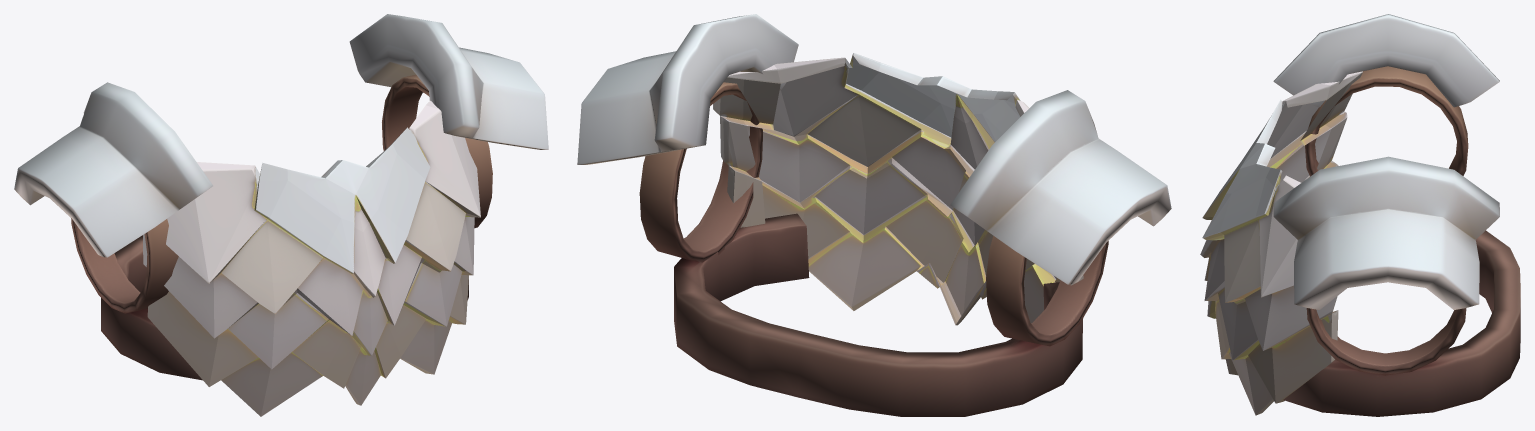
File: SK_Aiko_BreastPlate_geo.fbx
3 renders of one model, left to right at view 1: azimuth 30°, elevation 25°; view 2: azimuth 150°, elevation 25°; view 3: azimuth 270°, elevation 25°, orthographic. The views are drawn at different scales.
Visible parts, largest first — view 1: SK_Aiko_BreastPlate_geo; view 2: SK_Aiko_BreastPlate_geo; view 3: SK_Aiko_BreastPlate_geo.
Boxes of the visible parts, x1,y1,x2,y2 form: SK_Aiko_BreastPlate_geo: (14,14,548,416); SK_Aiko_BreastPlate_geo: (577,14,1171,416); SK_Aiko_BreastPlate_geo: (1200,14,1520,416).
Bounding box in the file's own units: 48.39 × 28.35 × 28.23.
